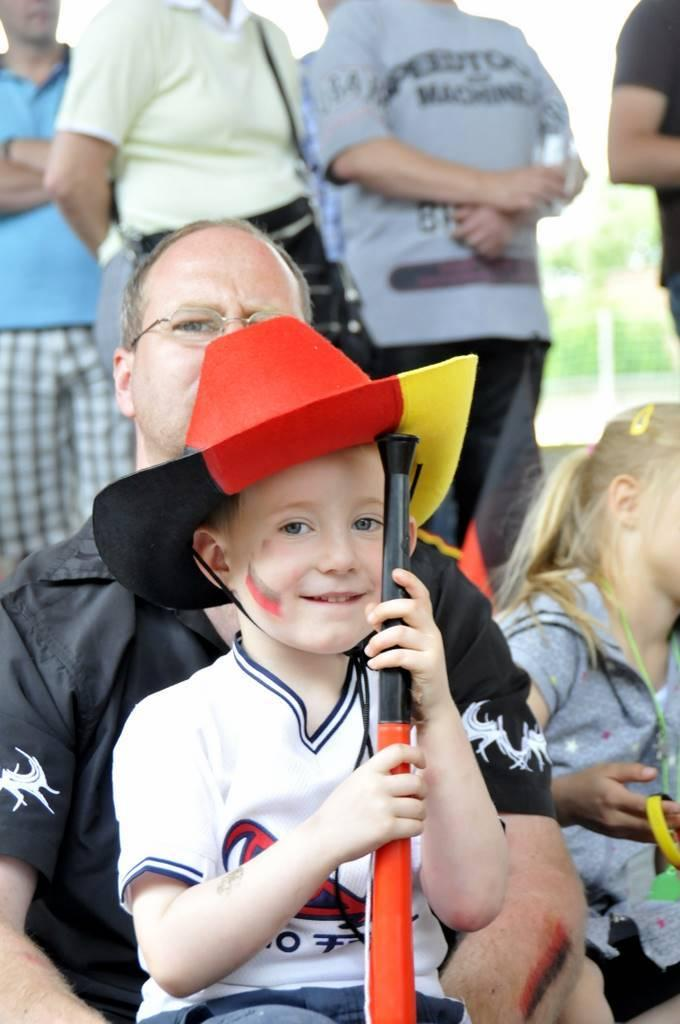Hat: (94, 313, 476, 613)
